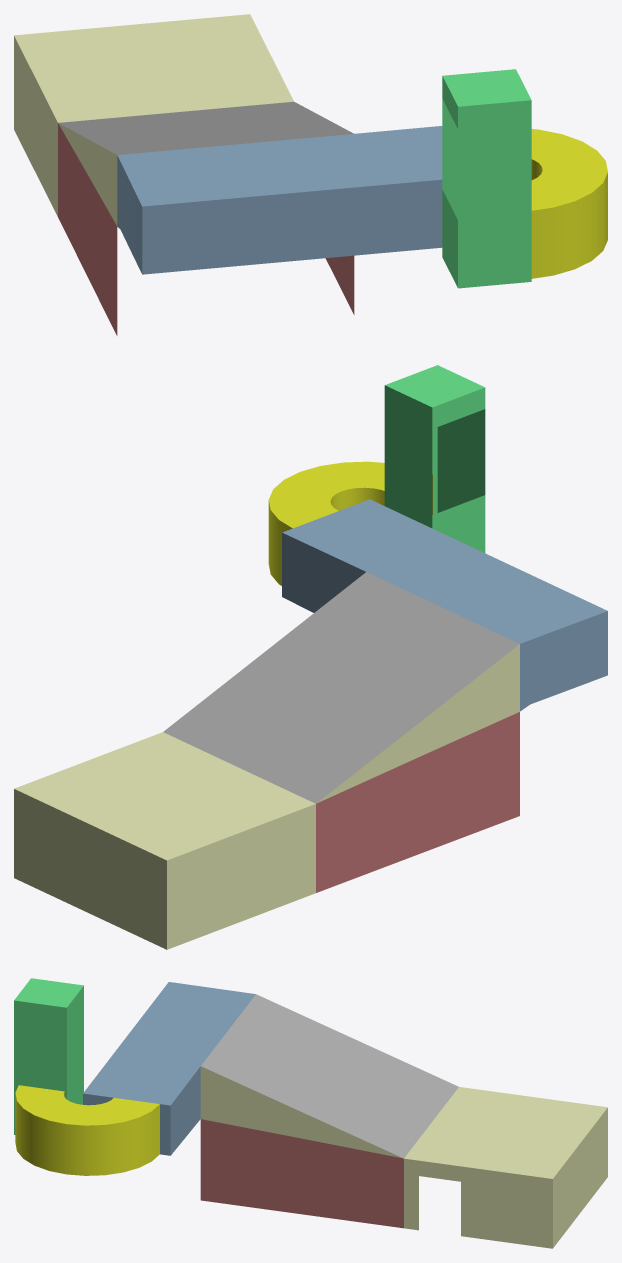
The model's file is Close_Lower_Wall.fbx.
3 renders of one model, top to bottom at view 1: azimuth 30°, elevation 25°; view 2: azimuth 150°, elevation 25°; view 3: azimuth 270°, elevation 25°, orthographic. The views are drawn at different scales.
Parts seen in each view (by area): view 1: Close_Lower_Wall_low; view 2: Close_Lower_Wall_low; view 3: Close_Lower_Wall_low.
Boxes of the visible parts, bbox=[...] form: Close_Lower_Wall_low: bbox=[14, 14, 607, 335]; Close_Lower_Wall_low: bbox=[14, 365, 607, 949]; Close_Lower_Wall_low: bbox=[14, 978, 607, 1248].
Bounding box in the file's own units: 1837 × 1300 × 3206.
